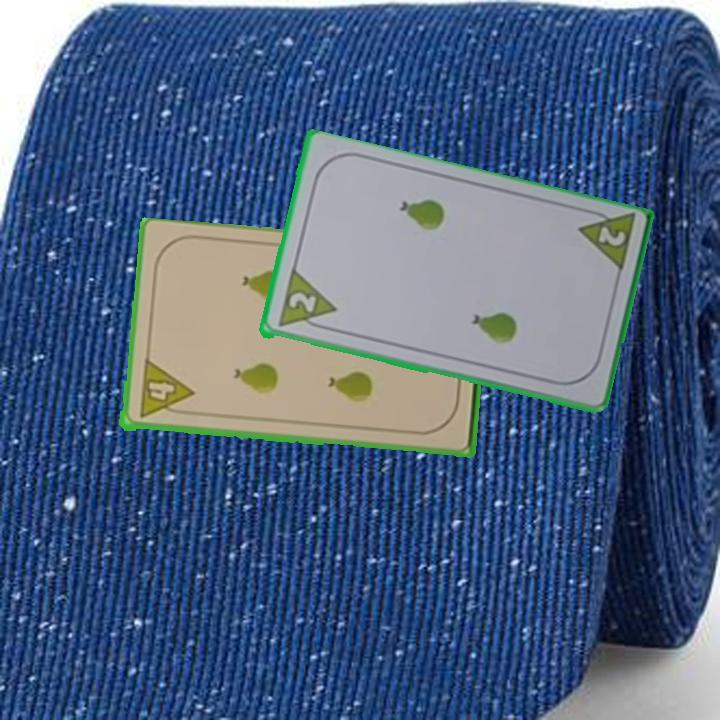2p: (574, 205, 638, 278), (274, 268, 339, 335)
4p: (136, 358, 195, 422)
